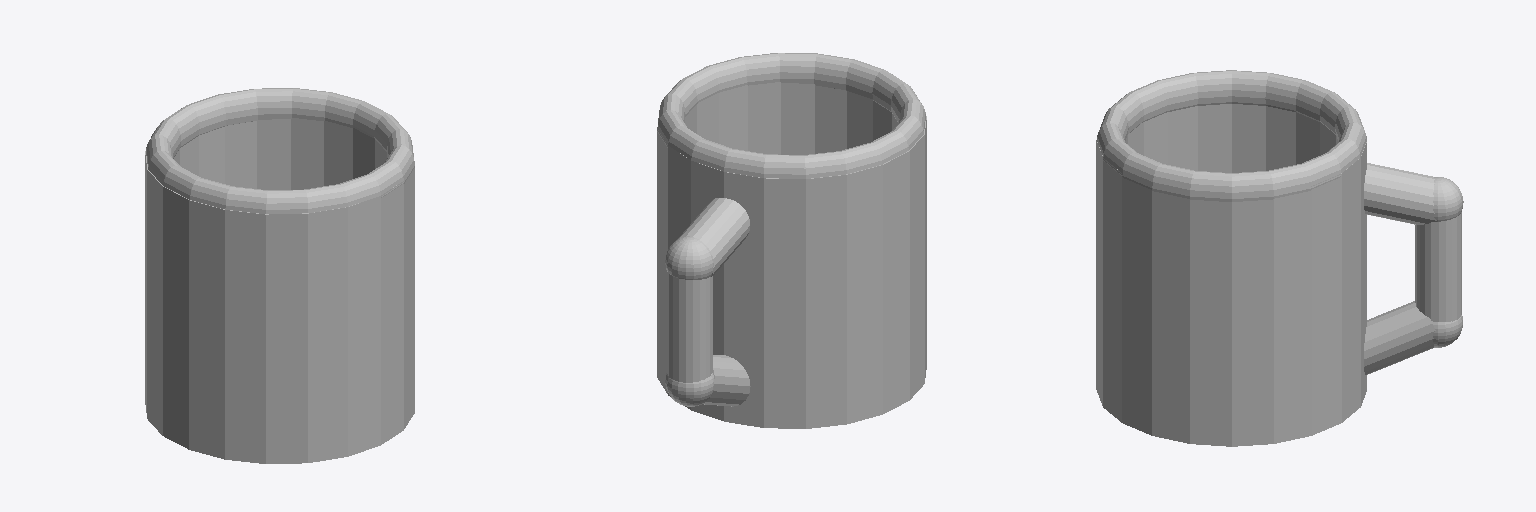
The model's file is coffeemug.obj.
3 views of the same model, side by side, from view 1: azimuth 30°, elevation 25°; view 2: azimuth 150°, elevation 25°; view 3: azimuth 270°, elevation 25° (orthographic).
Bounding box in the file's own units: 8.28 × 9.01 × 11.21.